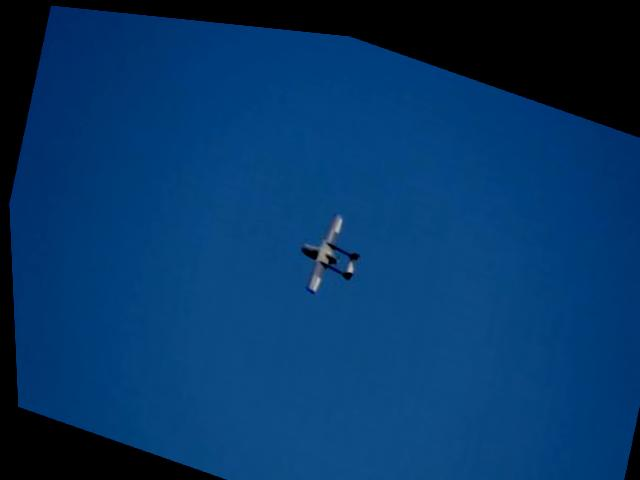uav: (285, 193, 373, 308)
